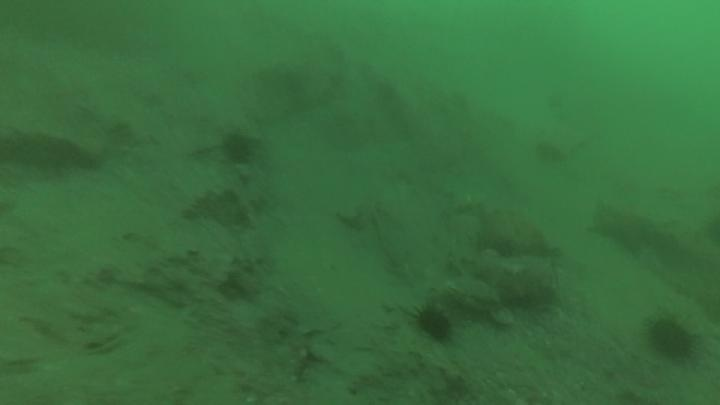echinus: (645, 314, 699, 363), (412, 303, 455, 344), (219, 129, 258, 167), (532, 138, 567, 167)
starfish: (587, 199, 658, 257)
